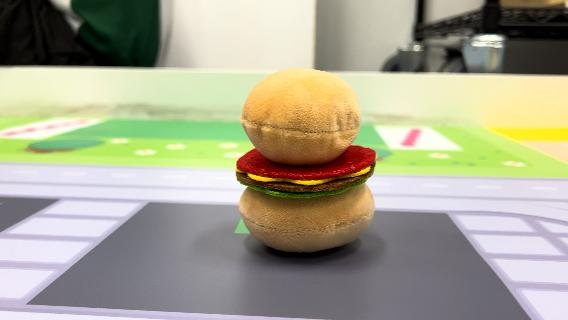burger: (233, 65, 382, 255)
